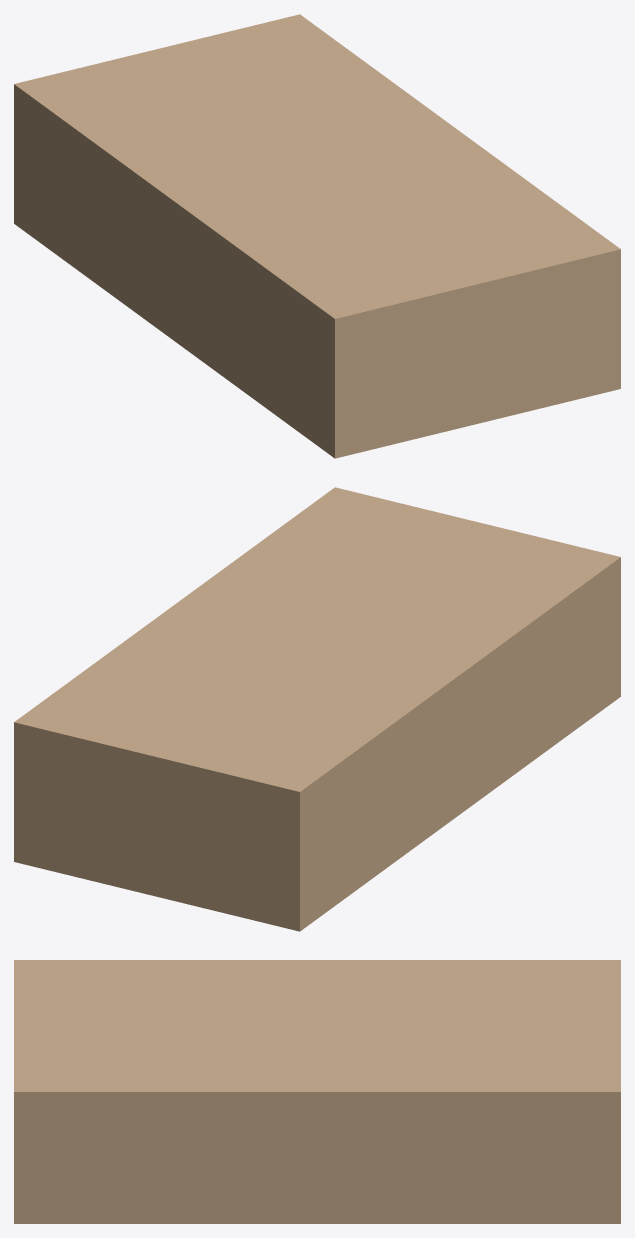
File: SM_Cabinet_Office_POC.glb
The picture shows the model from 3 angles, top to bottom: view 1: azimuth 30°, elevation 25°; view 2: azimuth 150°, elevation 25°; view 3: azimuth 270°, elevation 25°; orthographic projection. The views are drawn at different scales.
Visible parts, largest first — view 1: SM_Cabinet_Office_POC_00; view 2: SM_Cabinet_Office_POC_00; view 3: SM_Cabinet_Office_POC_00.
Part boxes in pixels (bbox=[...]): SM_Cabinet_Office_POC_00: bbox=[14, 14, 620, 458]; SM_Cabinet_Office_POC_00: bbox=[14, 487, 620, 931]; SM_Cabinet_Office_POC_00: bbox=[14, 960, 620, 1223].
Bounding box in the file's own units: 0.9 × 0.475 × 1.75.
